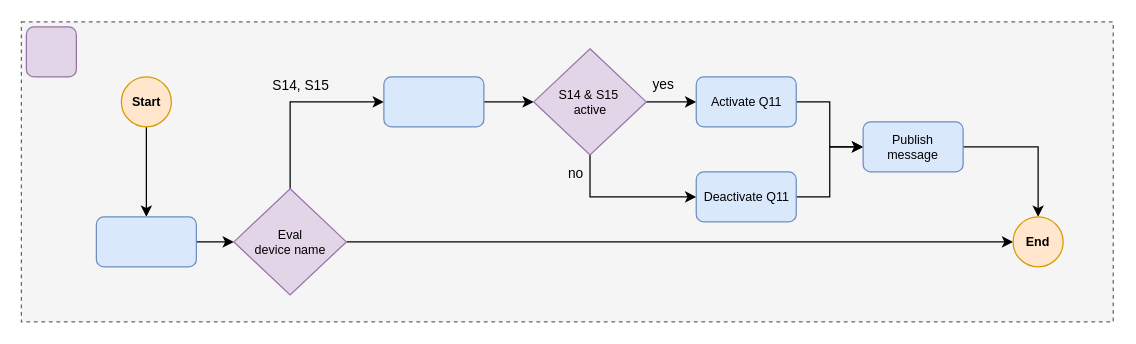
Some shapes in this 1136 by 344 pixel diagram are drawn without their labels. Here are the shapes that lost their labels. From the top down, the box of each, then its label:
(25, 26, 76, 77): Q11
(383, 76, 484, 127): Remember state
(95, 216, 196, 267): Message Received
